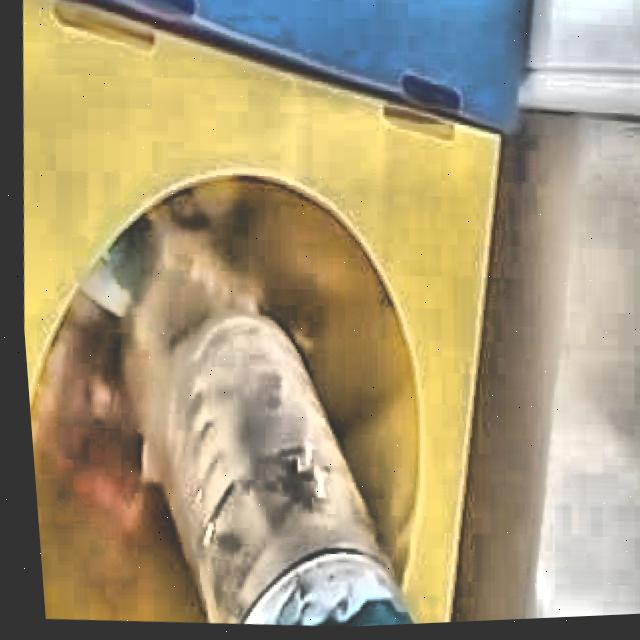plastic: (139, 317, 400, 629)
